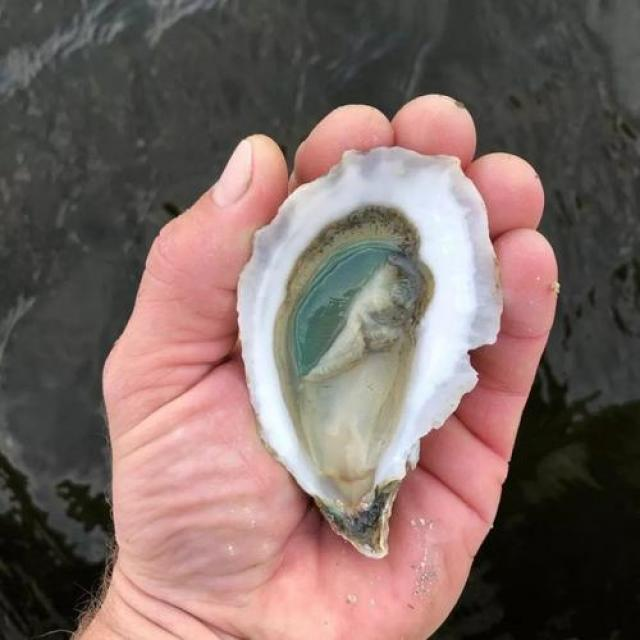Oyster-Open: (235, 139, 505, 565)
